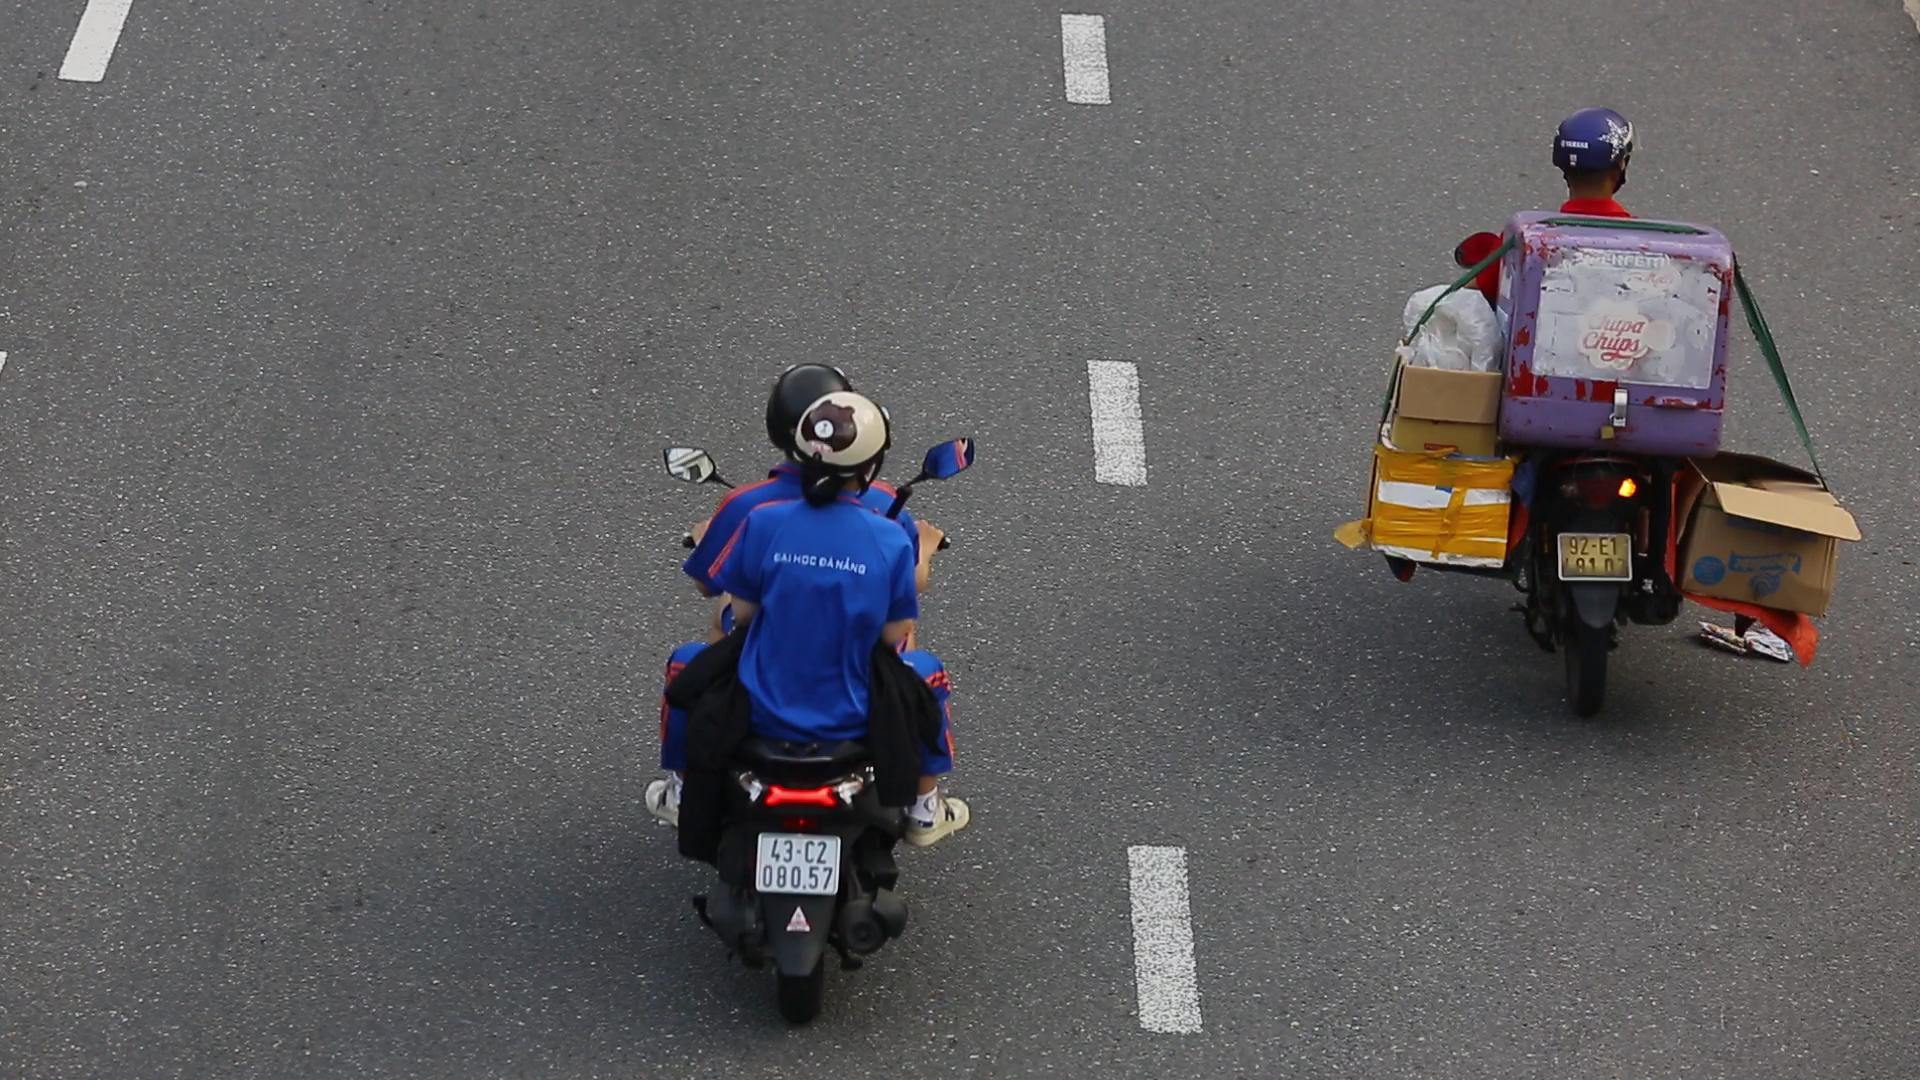motobike: (1371, 105, 1869, 749), (649, 344, 988, 1056)
